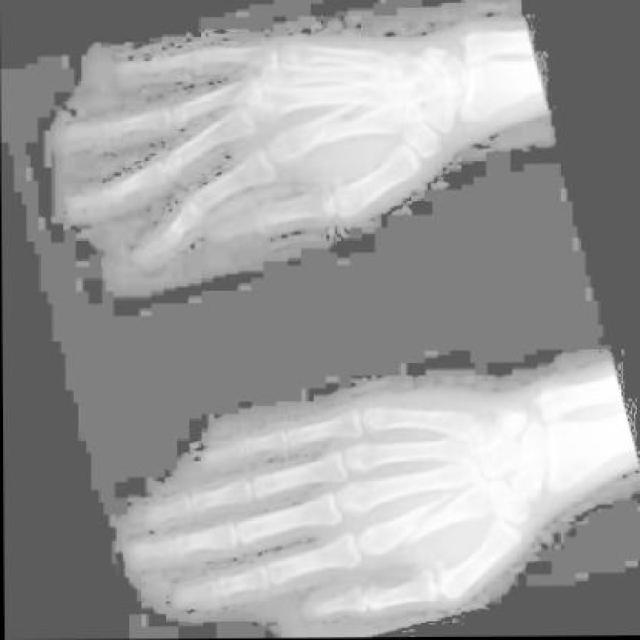Fracture: (372, 486, 471, 559), (294, 92, 388, 156)
